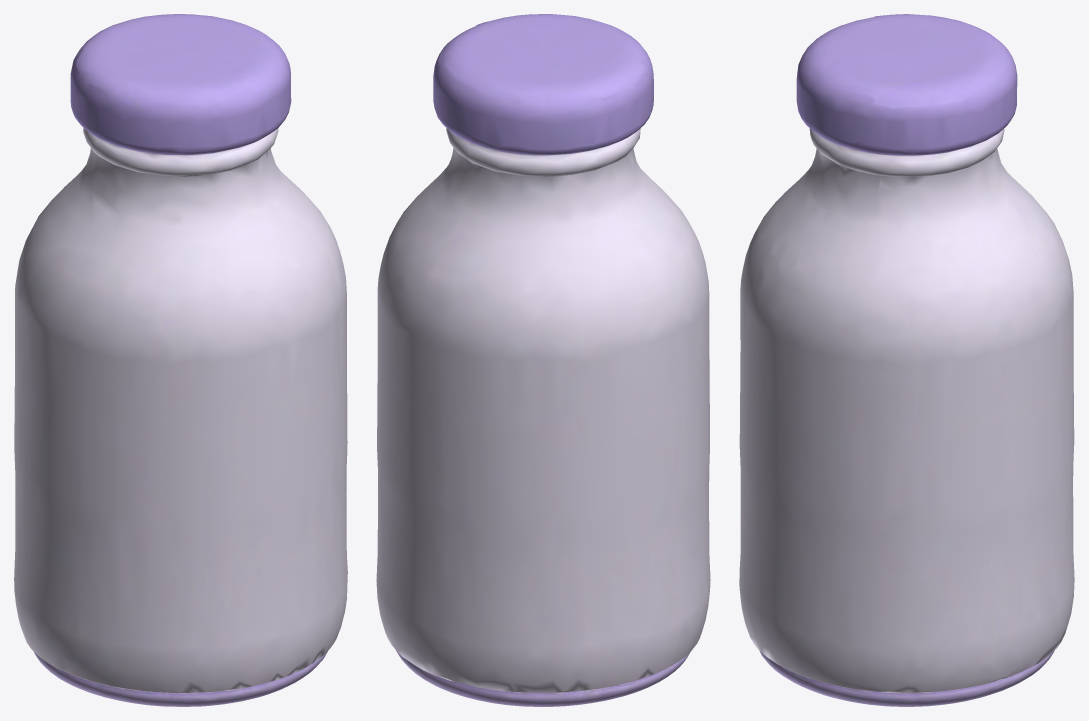
File: jug.glb
3 views of the same model, side by side, from view 1: azimuth 30°, elevation 25°; view 2: azimuth 150°, elevation 25°; view 3: azimuth 270°, elevation 25° (orthographic).
Visible parts, largest first — view 1: tripo_node_cbb3e0e9-fa94-4536-b5f8-1c338fe14373; view 2: tripo_node_cbb3e0e9-fa94-4536-b5f8-1c338fe14373; view 3: tripo_node_cbb3e0e9-fa94-4536-b5f8-1c338fe14373.
Part boxes in pixels (x1=…): tripo_node_cbb3e0e9-fa94-4536-b5f8-1c338fe14373: x1=14, y1=14, x2=347, y2=706; tripo_node_cbb3e0e9-fa94-4536-b5f8-1c338fe14373: x1=376, y1=14, x2=710, y2=706; tripo_node_cbb3e0e9-fa94-4536-b5f8-1c338fe14373: x1=739, y1=14, x2=1074, y2=706.
Size of the model in its own units: 0.4961 by 0.9792 by 0.4965.
Materials: 1 (1 with a texture image).
